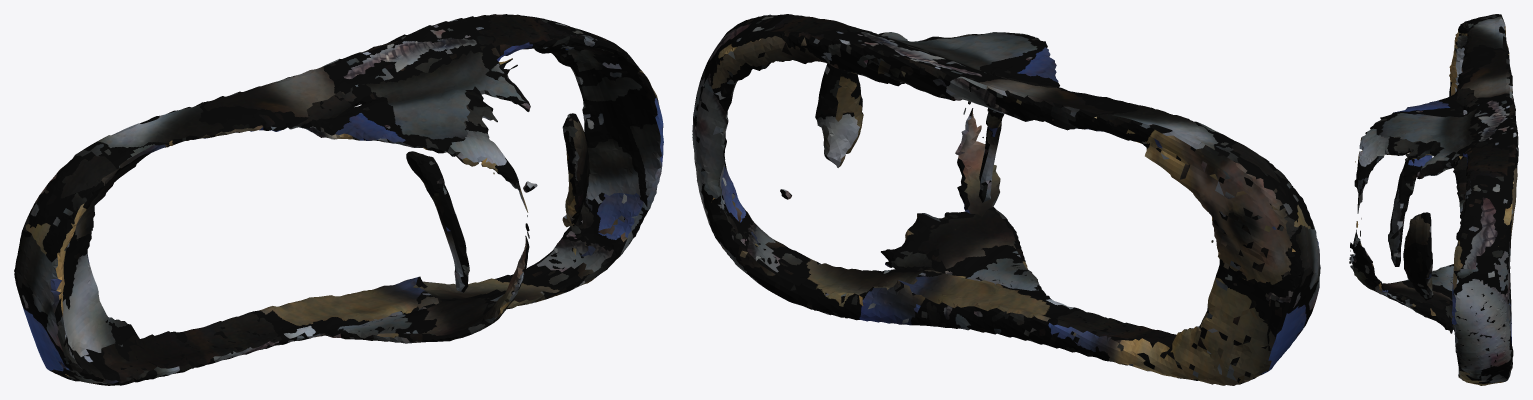
The model's file is center_benchmark_mesh_shoe-white_viva_sandal_right.obj.
3 renders of one model, left to right at view 1: azimuth 30°, elevation 25°; view 2: azimuth 150°, elevation 25°; view 3: azimuth 270°, elevation 25°, orthographic. The views are drawn at different scales.
Size of the model in its own units: 0.2043 by 0.089 by 0.0615.
